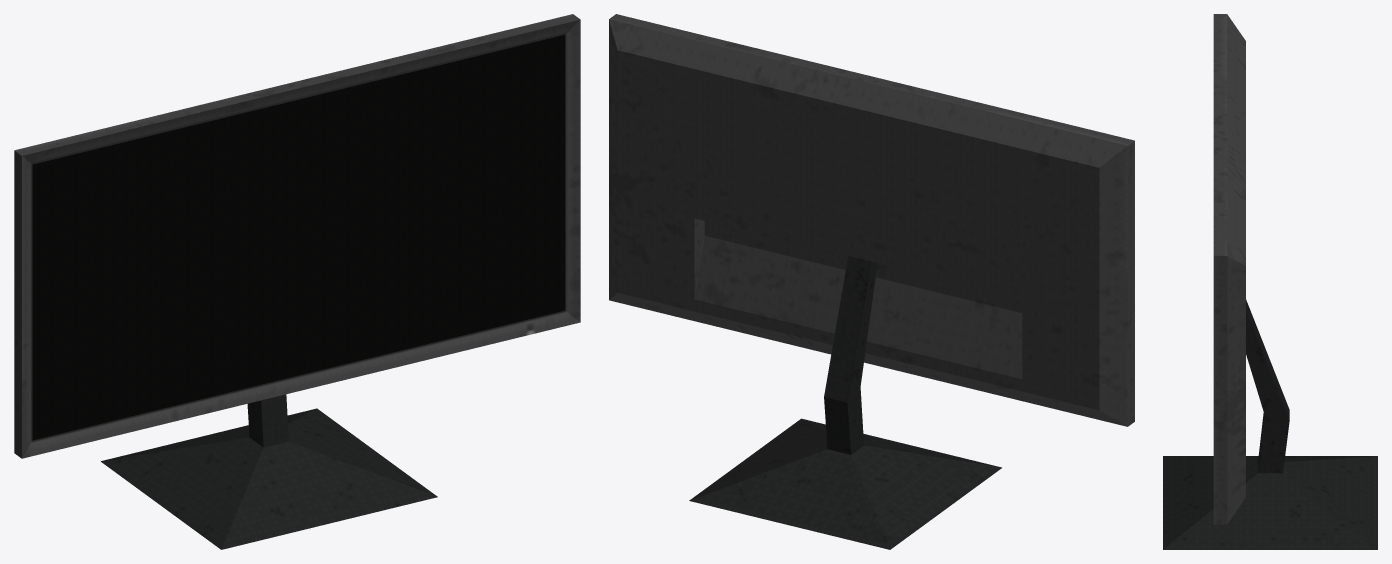
Rendered from monitor2.obj.
3 renders of one model, left to right at view 1: azimuth 30°, elevation 25°; view 2: azimuth 150°, elevation 25°; view 3: azimuth 270°, elevation 25°, orthographic. The views are drawn at different scales.
Parts seen in each view (by area): view 1: SM_PSX_Monitor; view 2: SM_PSX_Monitor; view 3: SM_PSX_Monitor.
Part boxes in pixels (x1,y1,x2,y2): SM_PSX_Monitor: [14, 14, 580, 549]; SM_PSX_Monitor: [609, 14, 1134, 549]; SM_PSX_Monitor: [1163, 14, 1377, 549].
Bounding box in the file's own units: 0.7194 × 0.5104 × 0.2701.
Materials: 1 (1 with a texture image).
